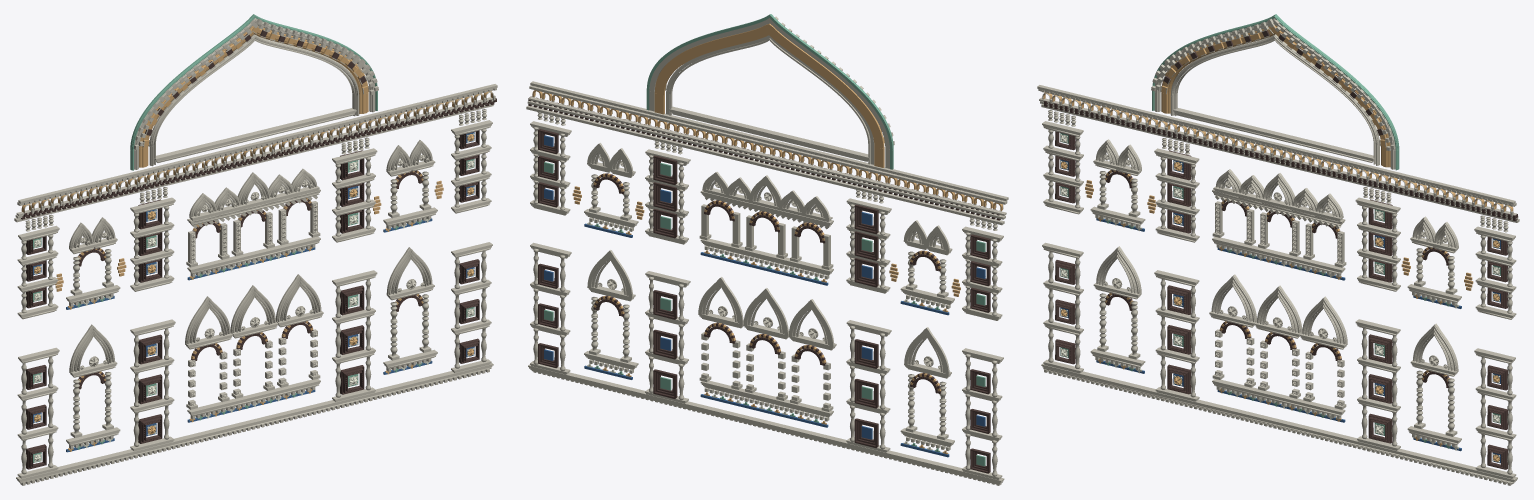
File: facade-ornament.draco.glb
The picture shows the model from 3 angles, left to right: view 1: azimuth 30°, elevation 25°; view 2: azimuth 150°, elevation 25°; view 3: azimuth 330°, elevation 25°; orthographic projection.
Parts seen in each view (by area): view 1: FacadeOrnament_Estland limestone marble, FacadeOrnament_Moulded plum brick, FacadeOrnament_Ochre glazed ceramic, FacadeOrnament_Celadon glazed ceramic, FacadeOrnament_Cobalt glazed ceramic, FacadeOrnament_Ivory glazed ceramic; view 2: FacadeOrnament_Estland limestone marble, FacadeOrnament_Moulded plum brick, FacadeOrnament_Ochre glazed ceramic, FacadeOrnament_Celadon glazed ceramic, FacadeOrnament_Cobalt glazed ceramic; view 3: FacadeOrnament_Estland limestone marble, FacadeOrnament_Moulded plum brick, FacadeOrnament_Ochre glazed ceramic, FacadeOrnament_Celadon glazed ceramic, FacadeOrnament_Cobalt glazed ceramic, FacadeOrnament_Ivory glazed ceramic.
Part boxes in pixels (<box>): FacadeOrnament_Estland limestone marble: <box>14,18,497,485</box>; FacadeOrnament_Moulded plum brick: <box>21,29,496,469</box>; FacadeOrnament_Ochre glazed ceramic: <box>21,26,492,451</box>; FacadeOrnament_Celadon glazed ceramic: <box>33,14,474,462</box>; FacadeOrnament_Cobalt glazed ceramic: <box>33,132,474,452</box>; FacadeOrnament_Ivory glazed ceramic: <box>34,133,474,462</box>; FacadeOrnament_Estland limestone marble: <box>526,16,1008,485</box>; FacadeOrnament_Moulded plum brick: <box>528,96,1001,473</box>; FacadeOrnament_Ochre glazed ceramic: <box>532,23,1002,454</box>; FacadeOrnament_Celadon glazed ceramic: <box>544,14,985,466</box>; FacadeOrnament_Cobalt glazed ceramic: <box>544,135,985,457</box>; FacadeOrnament_Estland limestone marble: <box>1037,18,1519,485</box>; FacadeOrnament_Moulded plum brick: <box>1044,30,1517,469</box>; FacadeOrnament_Ochre glazed ceramic: <box>1043,25,1513,461</box>; FacadeOrnament_Celadon glazed ceramic: <box>1060,14,1500,448</box>; FacadeOrnament_Cobalt glazed ceramic: <box>1060,159,1500,463</box>; FacadeOrnament_Ivory glazed ceramic: <box>1060,134,1499,462</box>.
Bounding box in the file's own units: 30.53 × 25.34 × 0.8849.
